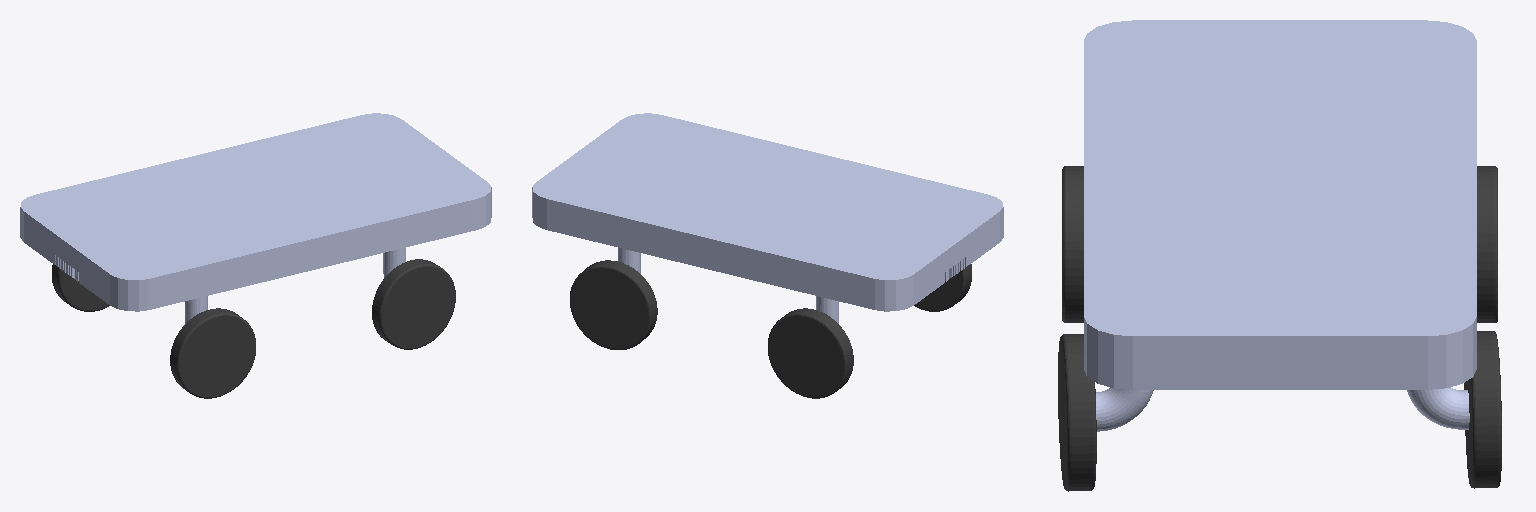
URDF robot description (toy_car2):
<?xml version="1.0" encoding="utf-8"?>
<!-- This URDF was automatically created by SolidWorks to URDF Exporter! Originally created by [author] ([email redacted]) 
     Commit Version: 1.5.1-0-g916b5db  Build Version: 1.5.7152.31018
     For more information, please see http://wiki.ros.org/sw_urdf_exporter -->
<robot
  name="toy_car2">
  <link
    name="dummy_link">
    <pose>0 0 0 0 0 0</pose> 
  </link>
  <joint
    name="dummy_joint" type="fixed">
    <parent
      link="dummy_link" />
    <child
      link="base_link" />
  </joint>
  <link
    name="base_link">
    <inertial>
      <origin
        xyz="0.000221429427403003 -1.24851696461115E-08 0.27917692187955"
        rpy="0 0 0" />
      <mass
        value="36.8785516604364" />
      <inertia
        ixx="0.79890865637271"
        ixy="-1.77070587701046E-07"
        ixz="0.000208674706116099"
        iyy="2.84391870850074"
        iyz="-9.4067382562074E-09"
        izz="3.6072349284976" />
    </inertial>
    <visual>
      <origin
        xyz="0 0 0"
        rpy="0 0 0" />
      <geometry>
        <mesh
          filename="package://toy_car2/meshes/base_link.STL" />
      </geometry>
      <material
        name="">
        <color
          rgba="0.792156862745098 0.819607843137255 0.933333333333333 1" />
      </material>
    </visual>
    <collision>
      <origin
        xyz="0 0 0"
        rpy="0 0 0" />
      <geometry>
        <mesh
          filename="package://toy_car2/meshes/base_link.STL" />
      </geometry>
    </collision>
  </link>
  <link
    name="A_front_right">
    <inertial>
      <origin
        xyz="0.0150990697167273 -0.104658870076511 -0.0015787419924212"
        rpy="0 0 0" />
      <mass
        value="0.457752348264091" />
      <inertia
        ixx="0.00146712127834145"
        ixy="0.000407296110616886"
        ixz="2.58653064273643E-05"
        iyy="0.000397741684591518"
        iyz="-4.25864298426465E-05"
        izz="0.00171179231489269" />
    </inertial>
    <visual>
      <origin
        xyz="0 0 0"
        rpy="0 0 0" />
      <geometry>
        <mesh
          filename="package://toy_car2/meshes/A_front_right.STL" />
      </geometry>
      <material
        name="">
        <color
          rgba="0.792156862745098 0.819607843137255 0.933333333333333 1" />
      </material>
    </visual>
    <collision>
      <origin
        xyz="0 0 0"
        rpy="0 0 0" />
      <geometry>
        <mesh
          filename="package://toy_car2/meshes/A_front_right.STL" />
      </geometry>
    </collision>
  </link>
  <joint
    name="AFR"
    type="revolute">
    <origin
      xyz="0.247423936981343 -0.185921848445938 0.266325256317116"
      rpy="1.5707963267949 0 -1.61192452402842" />
    <parent
      link="base_link" />
    <child
      link="A_front_right" />
    <axis
      xyz="0 1 0" />
    <limit
      lower="-0.5"
      upper="0.5"
      effort="100"
      velocity="10" />
  </joint>
  <link
    name="W_front_right">
    <inertial>
      <origin
        xyz="-0.000931356944304906 -0.00789834852749627 -0.0281810506956433"
        rpy="0 0 0" />
      <mass
        value="1.17708227302182" />
      <inertia
        ixx="0.00328764997156677"
        ixy="3.77647733281346E-06"
        ixz="3.6368422779933E-05"
        iyy="0.00331923097570858"
        iyz="0.000308421470702055"
        izz="0.00625738068428431" />
    </inertial>
    <visual>
      <origin
        xyz="0 0 0"
        rpy="0 0 0" />
      <geometry>
        <mesh
          filename="package://toy_car2/meshes/W_front_right.STL" />
      </geometry>
      <material
        name="">
        <color
          rgba="0.298039215686275 0.298039215686275 0.298039215686275 1" />
      </material>
    </visual>
    <collision>
      <origin
        xyz="0 0 0"
        rpy="0 0 0" />
      <geometry>
        <mesh
          filename="package://toy_car2/meshes/W_front_right.STL" />
      </geometry>
    </collision>
  </link>
  <joint
    name="WFR"
    type="continuous">
    <origin
      xyz="0.0478820242804267 -0.1651 0"
      rpy="1.5707963267949 -0.117375913875404 -1.5707963267949" />
    <parent
      link="A_front_right" />
    <child
      link="W_front_right" />
    <axis
      xyz="0 0 1" />
    <limit effort="10" lower="-10000" upper="10000" velocity="100"/>
  </joint>
  <link
    name="A_front_left">
    <inertial>
      <origin
        xyz="0.0151813811159988 -0.104658870076511 -3.33066907387547E-16"
        rpy="0 0 0" />
      <mass
        value="0.457752348264091" />
      <inertia
        ixx="0.00146441683057283"
        ixy="0.000409516453552704"
        ixz="2.01255028267622E-18"
        iyy="0.000397741684591517"
        iyz="-5.0098770517519E-18"
        izz="0.00171449676266131" />
    </inertial>
    <visual>
      <origin
        xyz="0 0 0"
        rpy="0 0 0" />
      <geometry>
        <mesh
          filename="package://toy_car2/meshes/A_front_left.STL" />
      </geometry>
      <material
        name="">
        <color
          rgba="0.792156862745098 0.819607843137255 0.933333333333333 1" />
      </material>
    </visual>
    <collision>
      <origin
        xyz="0 0 0"
        rpy="0 0 0" />
      <geometry>
        <mesh
          filename="package://toy_car2/meshes/A_front_left.STL" />
      </geometry>
    </collision>
  </link>
  <joint
    name="AFL"
    type="revolute">
    <origin
      xyz="0.247423936981343 0.185921848445937 0.266325256317116"
      rpy="1.57079632679489 0 1.62685492208242" />
    <parent
      link="base_link" />
    <child
      link="A_front_left" />
    <axis
      xyz="0 1 0" />
    <limit
      lower="-0.5"
      upper="0.5"
      effort="100"
      velocity="10" />
  </joint>
  <link
    name="W_front_left">
    <inertial>
      <origin
        xyz="-4.16333634234434E-17 0 -0.0192081204890179"
        rpy="0 0 0" />
      <mass
        value="1.17708227302182" />
      <inertia
        ixx="0.00328720465716001"
        ixy="5.42524602716379E-19"
        ixz="7.04731412115578E-19"
        iyy="0.00328720465716001"
        iyz="-2.15485181781494E-18"
        izz="0.00628985231723965" />
    </inertial>
    <visual>
      <origin
        xyz="0 0 0"
        rpy="0 0 0" />
      <geometry>
        <mesh
          filename="package://toy_car2/meshes/W_front_left.STL" />
      </geometry>
      <material
        name="">
        <color
          rgba="0.298039215686275 0.298039215686275 0.298039215686275 1" />
      </material>
    </visual>
    <collision>
      <origin
        xyz="0 0 0"
        rpy="0 0 0" />
      <geometry>
        <mesh
          filename="package://toy_car2/meshes/W_front_left.STL" />
      </geometry>
    </collision>
  </link>
  <joint
    name="WFL"
    type="continuous">
    <origin
      xyz="0.0572696063994989 -0.1651 0"
      rpy="-1.5707963267949 -0.407910894812903 1.5707963267949" />
    <parent
      link="A_front_left" />
    <child
      link="W_front_left" />
    <axis
      xyz="0 0 1" />
    <limit effort="10" lower="-10000" upper="10000" velocity="100"/>
  </joint>
  <link
    name="A_rear_right">
    <inertial>
      <origin
        xyz="-0.0673686188840012 0.060441129923489 -1.66533453693773E-16"
        rpy="0 0 0" />
      <mass
        value="0.457752348264091" />
      <inertia
        ixx="0.00146441683057283"
        ixy="0.000409516453552704"
        ixz="-1.04390562281624E-18"
        iyy="0.000397741684591517"
        iyz="3.21199462696269E-18"
        izz="0.00171449676266131" />
    </inertial>
    <visual>
      <origin
        xyz="0 0 0"
        rpy="0 0 0" />
      <geometry>
        <mesh
          filename="package://toy_car2/meshes/A_rear_right.STL" />
      </geometry>
      <material
        name="">
        <color
          rgba="0.792156862745098 0.819607843137255 0.933333333333333 1" />
      </material>
    </visual>
    <collision>
      <origin
        xyz="0 0 0"
        rpy="0 0 0" />
      <geometry>
        <mesh
          filename="package://toy_car2/meshes/A_rear_right.STL" />
      </geometry>
    </collision>
  </link>
  <joint
    name="ARR"
    type="fixed">
    <origin
      xyz="-0.260576021006123 -0.268678451285877 0.101225256317116"
      rpy="1.5707963267949 0 -1.5707963267949" />
    <parent
      link="base_link" />
    <child
      link="A_rear_right" />
    <axis
      xyz="0 0 0" />
  </joint>
  <link
    name="W_rear_right">
    <inertial>
      <origin
        xyz="4.16333634234434E-17 1.66533453693773E-16 0.00607227311148334"
        rpy="0 0 0" />
      <mass
        value="1.17708227302182" />
      <inertia
        ixx="0.00328720465716001"
        ixy="2.16840434497101E-19"
        ixz="1.45041811313902E-18"
        iyy="0.00328720465716001"
        iyz="-3.68084640345278E-19"
        izz="0.00628985231723964" />
    </inertial>
    <visual>
      <origin
        xyz="0 0 0"
        rpy="0 0 0" />
      <geometry>
        <mesh
          filename="package://toy_car2/meshes/W_rear_right.STL" />
      </geometry>
      <material
        name="">
        <color
          rgba="0.298039215686275 0.298039215686275 0.298039215686275 1" />
      </material>
    </visual>
    <collision>
      <origin
        xyz="0 0 0"
        rpy="0 0 0" />
      <geometry>
        <mesh
          filename="package://toy_car2/meshes/W_rear_right.STL" />
      </geometry>
    </collision>
  </link>
  <joint
    name="WRR"
    type="continuous">
    <origin
      xyz="0 0 0"
      rpy="1.5707963267949 1.00990623756839 -1.5707963267949" />
    <parent
      link="A_rear_right" />
    <child
      link="W_rear_right" />
    <axis
      xyz="0 0 1" />
      <limit effort="10" lower="-10000" upper="10000" velocity="100"/>
  </joint>
  <link
    name="A_rear_left">
    <inertial>
      <origin
        xyz="-0.0673686188840013 -0.060441129923489 0"
        rpy="0 0 0" />
      <mass
        value="0.457752348264091" />
      <inertia
        ixx="0.00146441683057283"
        ixy="-0.000409516453552704"
        ixz="-1.55596748238349E-20"
        iyy="0.000397741684591517"
        iyz="3.00616238871955E-20"
        izz="0.00171449676266131" />
    </inertial>
    <visual>
      <origin
        xyz="0 0 0"
        rpy="0 0 0" />
      <geometry>
        <mesh
          filename="package://toy_car2/meshes/A_rear_left.STL" />
      </geometry>
      <material
        name="">
        <color
          rgba="0.792156862745098 0.819607843137255 0.933333333333333 1" />
      </material>
    </visual>
    <collision>
      <origin
        xyz="0 0 0"
        rpy="0 0 0" />
      <geometry>
        <mesh
          filename="package://toy_car2/meshes/A_rear_left.STL" />
      </geometry>
    </collision>
  </link>
  <joint
    name="ARL"
    type="fixed">
    <origin
      xyz="-0.260576021006123 0.268678451285877 0.101225256317116"
      rpy="-1.5707963267949 0 1.5707963267949" />
    <parent
      link="base_link" />
    <child
      link="A_rear_left" />
    <axis
      xyz="0 0 0" />
  </joint>
  <link
    name="W_rear_left">
    <inertial>
      <origin
        xyz="0 0 0.00607227311148328"
        rpy="0 0 0" />
      <mass
        value="1.17708227302182" />
      <inertia
        ixx="0.00328720465716001"
        ixy="2.16840434497101E-19"
        ixz="1.43780779146268E-19"
        iyy="0.00328720465716001"
        iyz="4.19091085393059E-19"
        izz="0.00628985231723964" />
    </inertial>
    <visual>
      <origin
        xyz="0 0 0"
        rpy="0 0 0" />
      <geometry>
        <mesh
          filename="package://toy_car2/meshes/W_rear_left.STL" />
      </geometry>
      <material
        name="">
        <color
          rgba="0.298039215686275 0.298039215686275 0.298039215686275 1" />
      </material>
    </visual>
    <collision>
      <origin
        xyz="0 0 0"
        rpy="0 0 0" />
      <geometry>
        <mesh
          filename="package://toy_car2/meshes/W_rear_left.STL" />
      </geometry>
    </collision>
  </link>
  <joint
    name="WRL"
    type="continuous">
    <origin
      xyz="0 0 0"
      rpy="1.5707963267949 0.407910894812901 -1.5707963267949" />
    <parent
      link="A_rear_left" />
    <child
      link="W_rear_left" />
    <axis
      xyz="0 0 -1" />
      <limit effort="10" lower="-10000" upper="10000" velocity="100"/>
  </joint>

   <!-- Transmission -->
    <transmission name="trans_AFR">
    <type>transmission_interface/SimpleTransmission</type>
    <joint name="AFR">
      <hardwareInterface>hardware_interface/EffortJointInterface</hardwareInterface>
    </joint>
    <actuator name="motor_afr">
      <hardwareInterface>hardware_interface/EffortJointInterface</hardwareInterface>
      <mechanicalReduction>1</mechanicalReduction>
    </actuator>
  </transmission>

  <transmission name="trans_AFL">
    <type>transmission_interface/SimpleTransmission</type>
    <joint name="AFL">
      <hardwareInterface>hardware_interface/EffortJointInterface</hardwareInterface>
    </joint>
    <actuator name="motor_afl">
      <hardwareInterface>hardware_interface/EffortJointInterface</hardwareInterface>
      <mechanicalReduction>1</mechanicalReduction>
    </actuator>
  </transmission>

  <transmission name="trans_WRR">
    <type>transmission_interface/SimpleTransmission</type>
    <joint name="WRR">
      <hardwareInterface>hardware_interface/VelocityJointInterface</hardwareInterface>
    </joint>
    <actuator name="motor_wrr">
      <hardwareInterface>hardware_interface/VelocityJointInterface</hardwareInterface>
      <mechanicalReduction>1</mechanicalReduction>
    </actuator>
  </transmission>

  <transmission name="trans_WRL">
    <type>transmission_interface/SimpleTransmission</type>
    <joint name="WRL">
      <hardwareInterface>hardware_interface/VelocityJointInterface</hardwareInterface>
    </joint>
    <actuator name="motor_wrl">
      <hardwareInterface>hardware_interface/VelocityJointInterface</hardwareInterface>
      <mechanicalReduction>1</mechanicalReduction>
    </actuator>
  </transmission>

</robot>

--- Render facts (derived) ---
3 views of the same robot in one strip: view 1: azimuth 30°, elevation 25°; view 2: azimuth 150°, elevation 25°; view 3: azimuth 270°, elevation 25° (orthographic).
Model toy_car2 with 10 links and 9 joints (2 revolute, 4 continuous, 3 fixed), rooted at dummy_link, posed all joints at 0.
Links seen in each view (by area): view 1: base_link, W_rear_right, W_front_right, W_rear_left; view 2: base_link, W_front_left, W_rear_left, W_rear_right; view 3: base_link, W_front_right, W_front_left, W_rear_right, W_rear_left, A_front_left, A_front_right.
Link boxes in pixels (x1,y1,x2,y2): base_link: (20, 113, 491, 311); W_rear_right: (170, 308, 255, 398); W_front_right: (372, 259, 455, 349); W_rear_left: (52, 264, 109, 311); base_link: (532, 113, 1003, 311); W_front_left: (570, 260, 657, 349); W_rear_left: (768, 308, 853, 398); W_rear_right: (914, 264, 971, 311); base_link: (1084, 20, 1476, 389); W_front_right: (1058, 334, 1096, 491); W_front_left: (1464, 331, 1501, 488); W_rear_right: (1062, 166, 1083, 322); W_rear_left: (1477, 166, 1497, 322); A_front_left: (1407, 387, 1469, 429); A_front_right: (1096, 387, 1153, 431).
Bounding box of the posed robot: 0.9652 × 0.5735 × 0.3174 m (x, y, z).
Meshes: 9 distinct files referenced, 9 mesh visuals loaded (9 binary STL).
